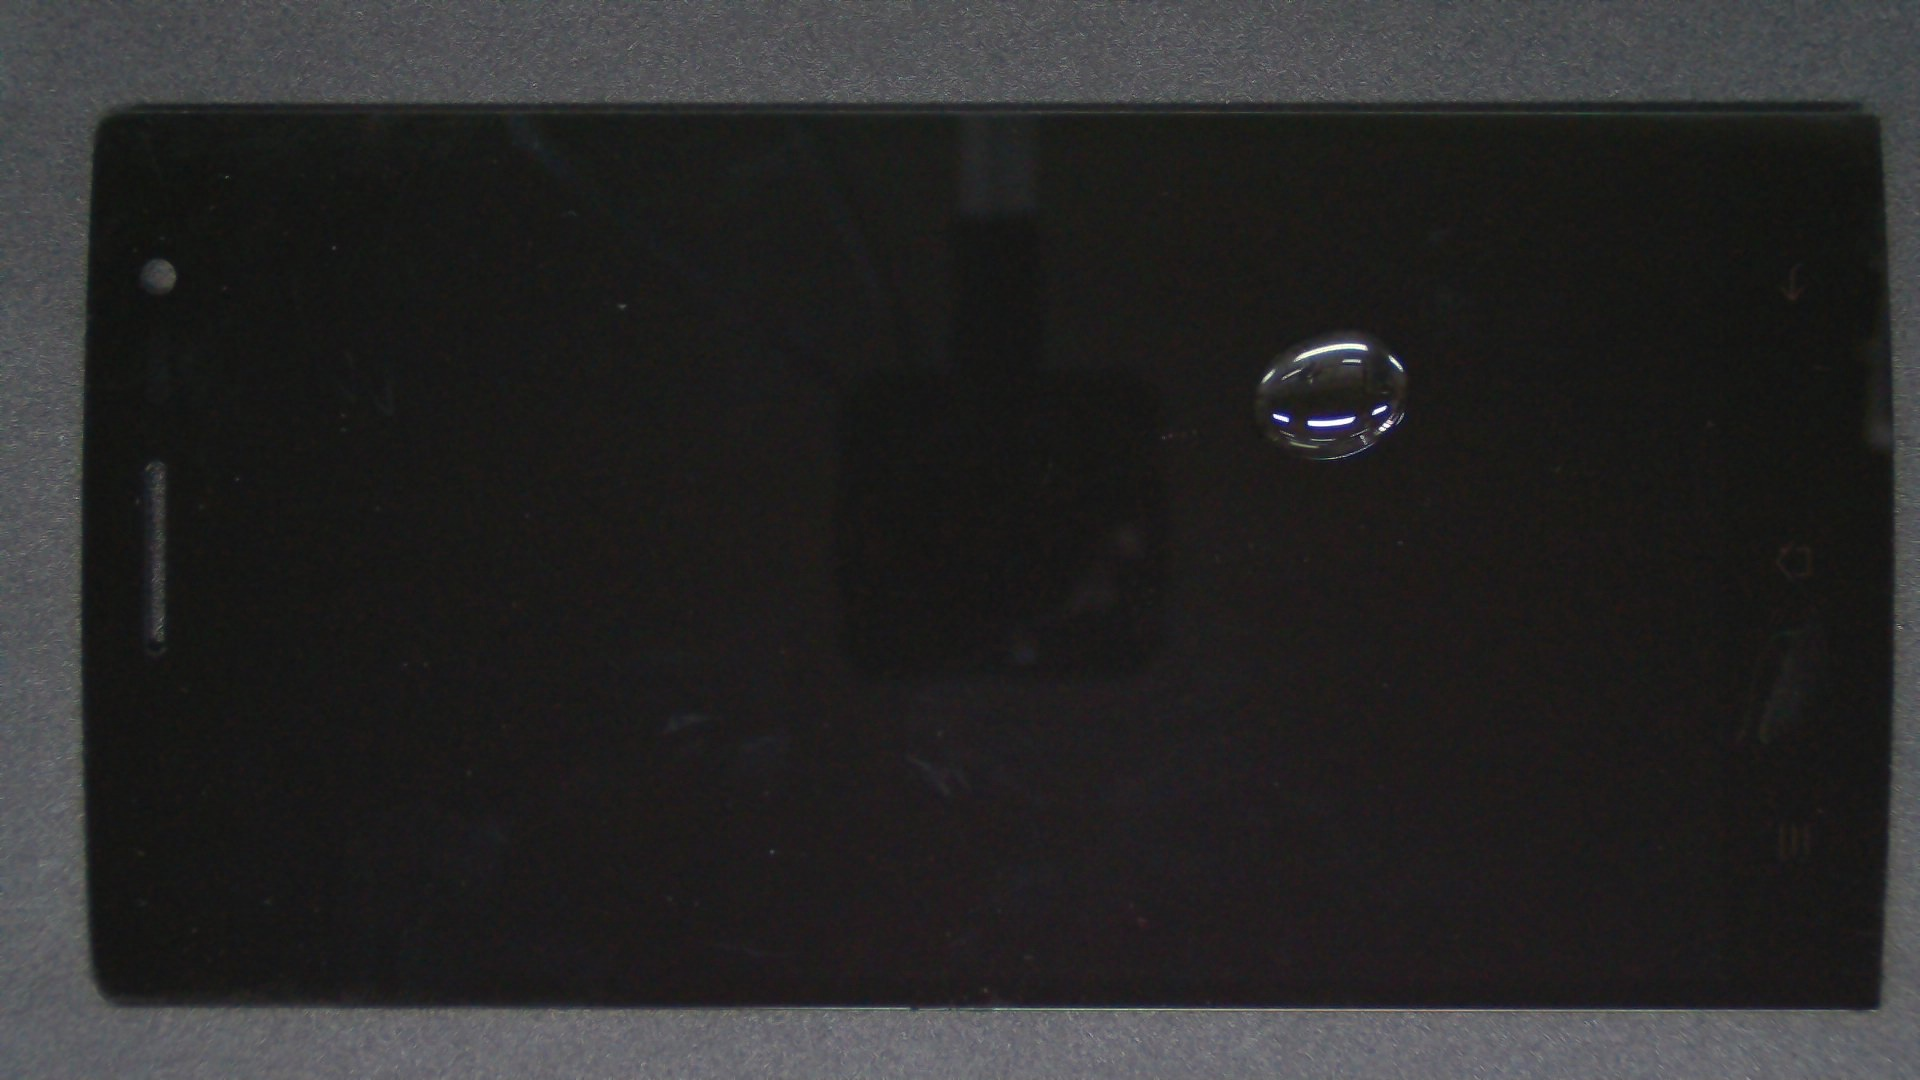oil: (670, 165, 1920, 496)
